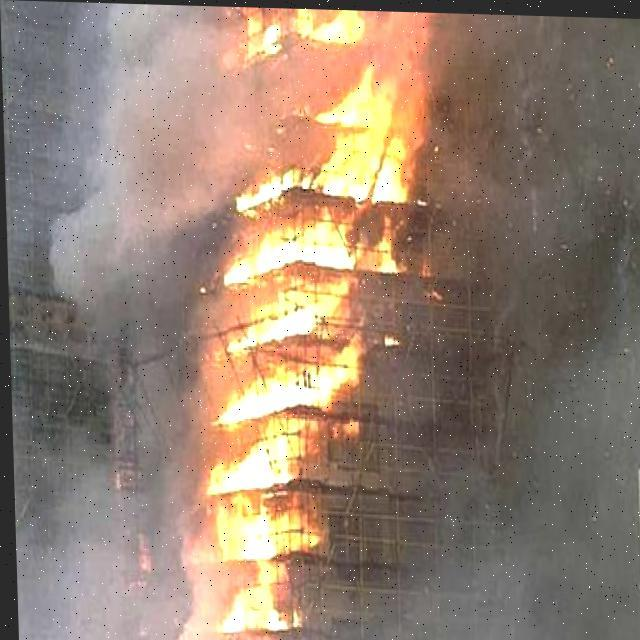Fire: (191, 4, 441, 639)
